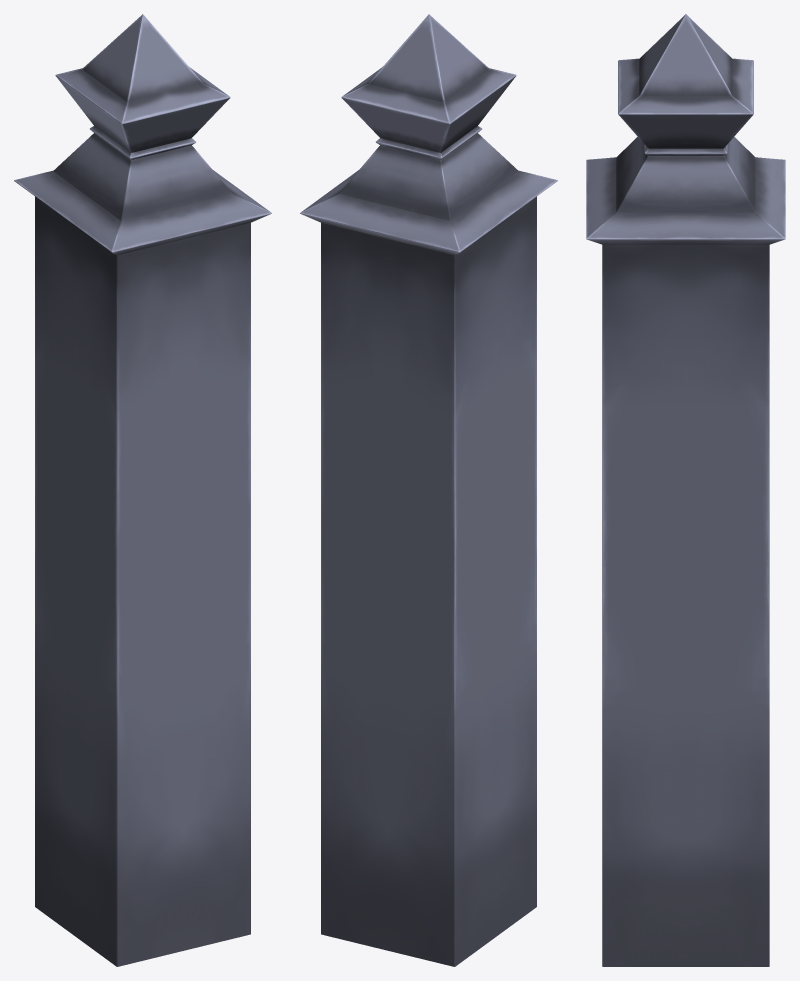
Rendered from RailingEnd.fbx.
The picture shows the model from 3 angles, left to right: view 1: azimuth 30°, elevation 25°; view 2: azimuth 150°, elevation 25°; view 3: azimuth 270°, elevation 25°; orthographic projection.
Parts seen in each view (by area): view 1: StairsFinal.001; view 2: StairsFinal.001; view 3: StairsFinal.001.
Part boxes in pixels (box(x1,y1,x2,y2)): StairsFinal.001: box(14, 14, 271, 966); StairsFinal.001: box(300, 14, 557, 966); StairsFinal.001: box(586, 14, 785, 966).
Size of the model in its own units: 119 by 646 by 127.
